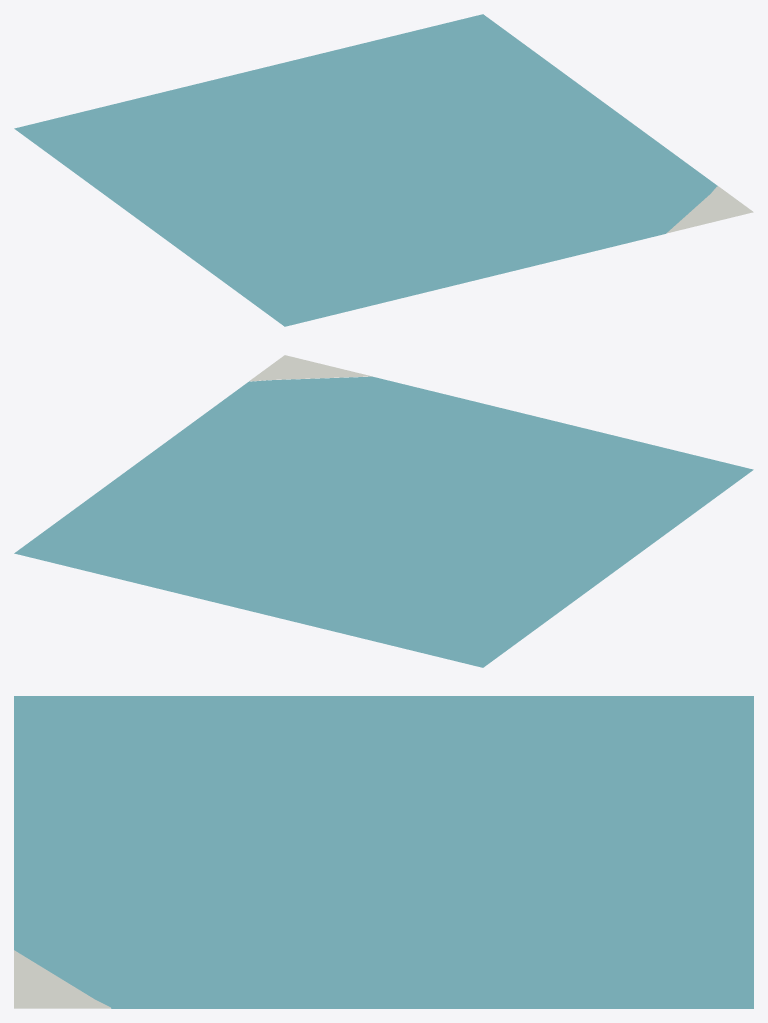
3 renders of one model, top to bottom at view 1: azimuth 30°, elevation 25°; view 2: azimuth 150°, elevation 25°; view 3: azimuth 270°, elevation 25°, orthographic. The views are drawn at different scales.
Visible parts, largest first — view 1: city; view 2: city; view 3: city.
Boxes of the visible parts, x1=… form: city: x1=14, y1=14, x2=753, y2=326; city: x1=14, y1=355, x2=753, y2=667; city: x1=14, y1=696, x2=753, y2=1008.
Size of the model in its own units: 500 by 0.18 by 500.
